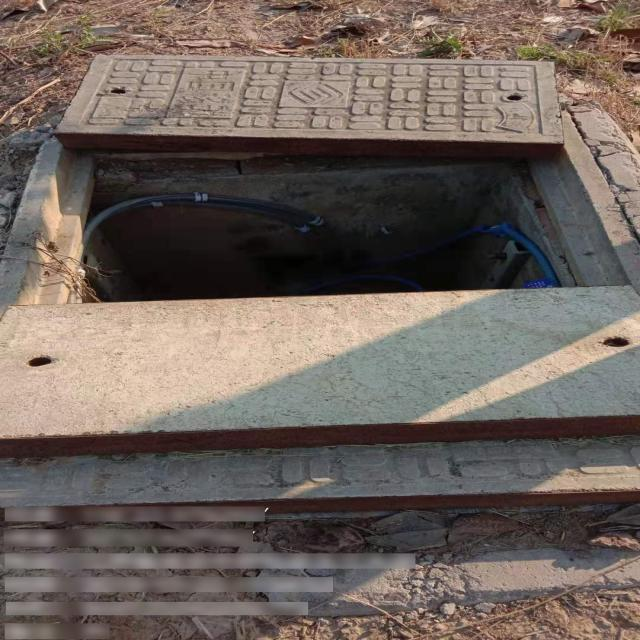Faulty: (1, 50, 640, 512)
